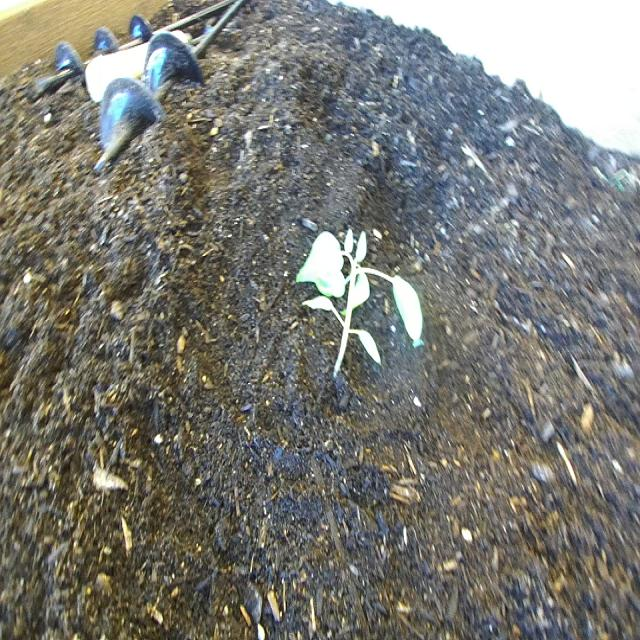Healthy: (290, 215, 431, 391)
